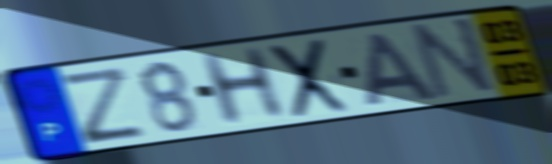8: (139, 60, 200, 136)
A: (363, 30, 441, 109)
H: (195, 44, 290, 130)
N: (411, 14, 499, 102)
X: (266, 35, 351, 122)
Z: (57, 63, 149, 147)
